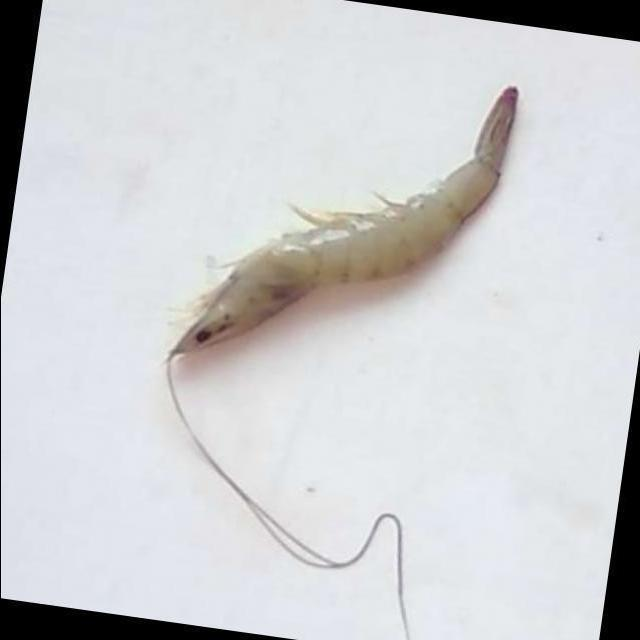shrimp: (169, 87, 518, 358)
